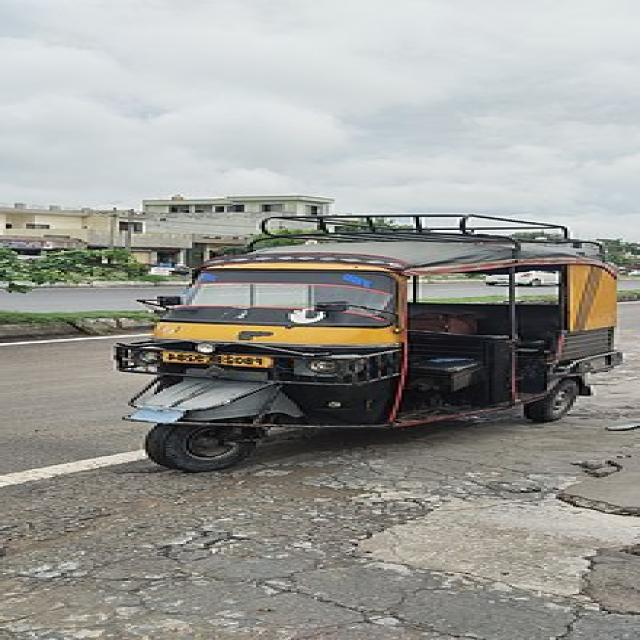autorickshaw: (114, 215, 621, 471)
